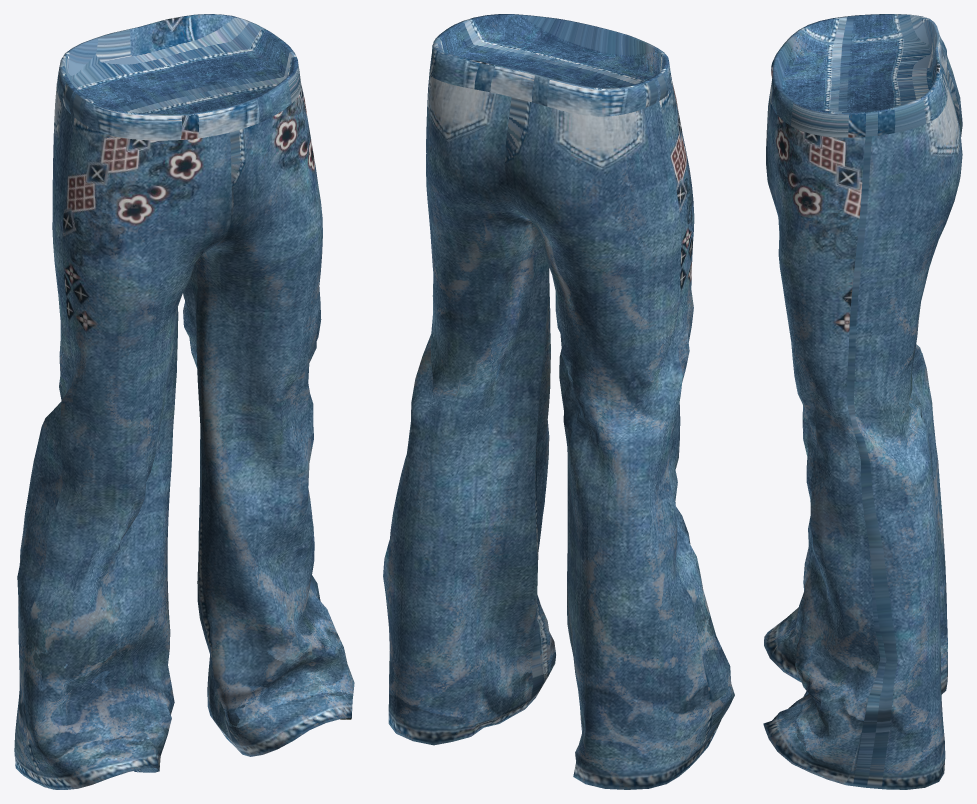
3 renders of one model, left to right at view 1: azimuth 30°, elevation 25°; view 2: azimuth 150°, elevation 25°; view 3: azimuth 270°, elevation 25°, orthographic. The views are drawn at different scales.
Visible parts, largest first — view 1: SKEL_ROOT; view 2: SKEL_ROOT; view 3: SKEL_ROOT.
Part boxes in pixels (bbox=[...]): SKEL_ROOT: bbox=[14, 14, 354, 789]; SKEL_ROOT: bbox=[383, 14, 734, 789]; SKEL_ROOT: bbox=[763, 14, 962, 789].
Bounding box in the file's own units: 0.5077 × 1.07 × 0.2852.
